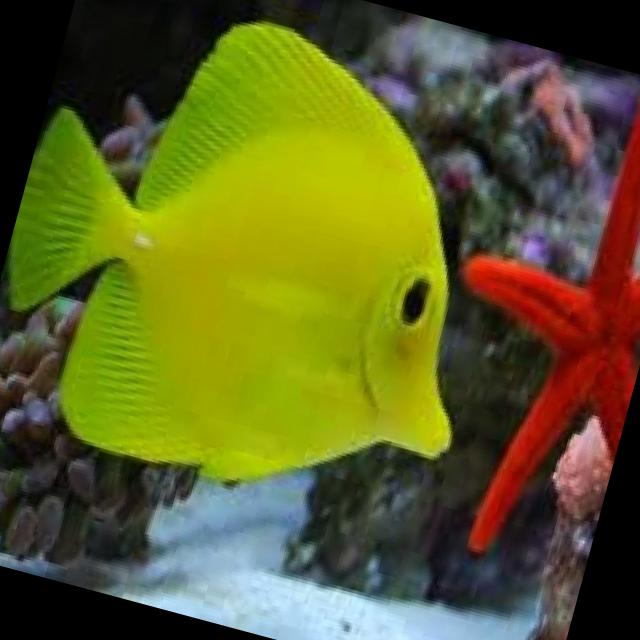TangFish: (0, 0, 545, 537)
